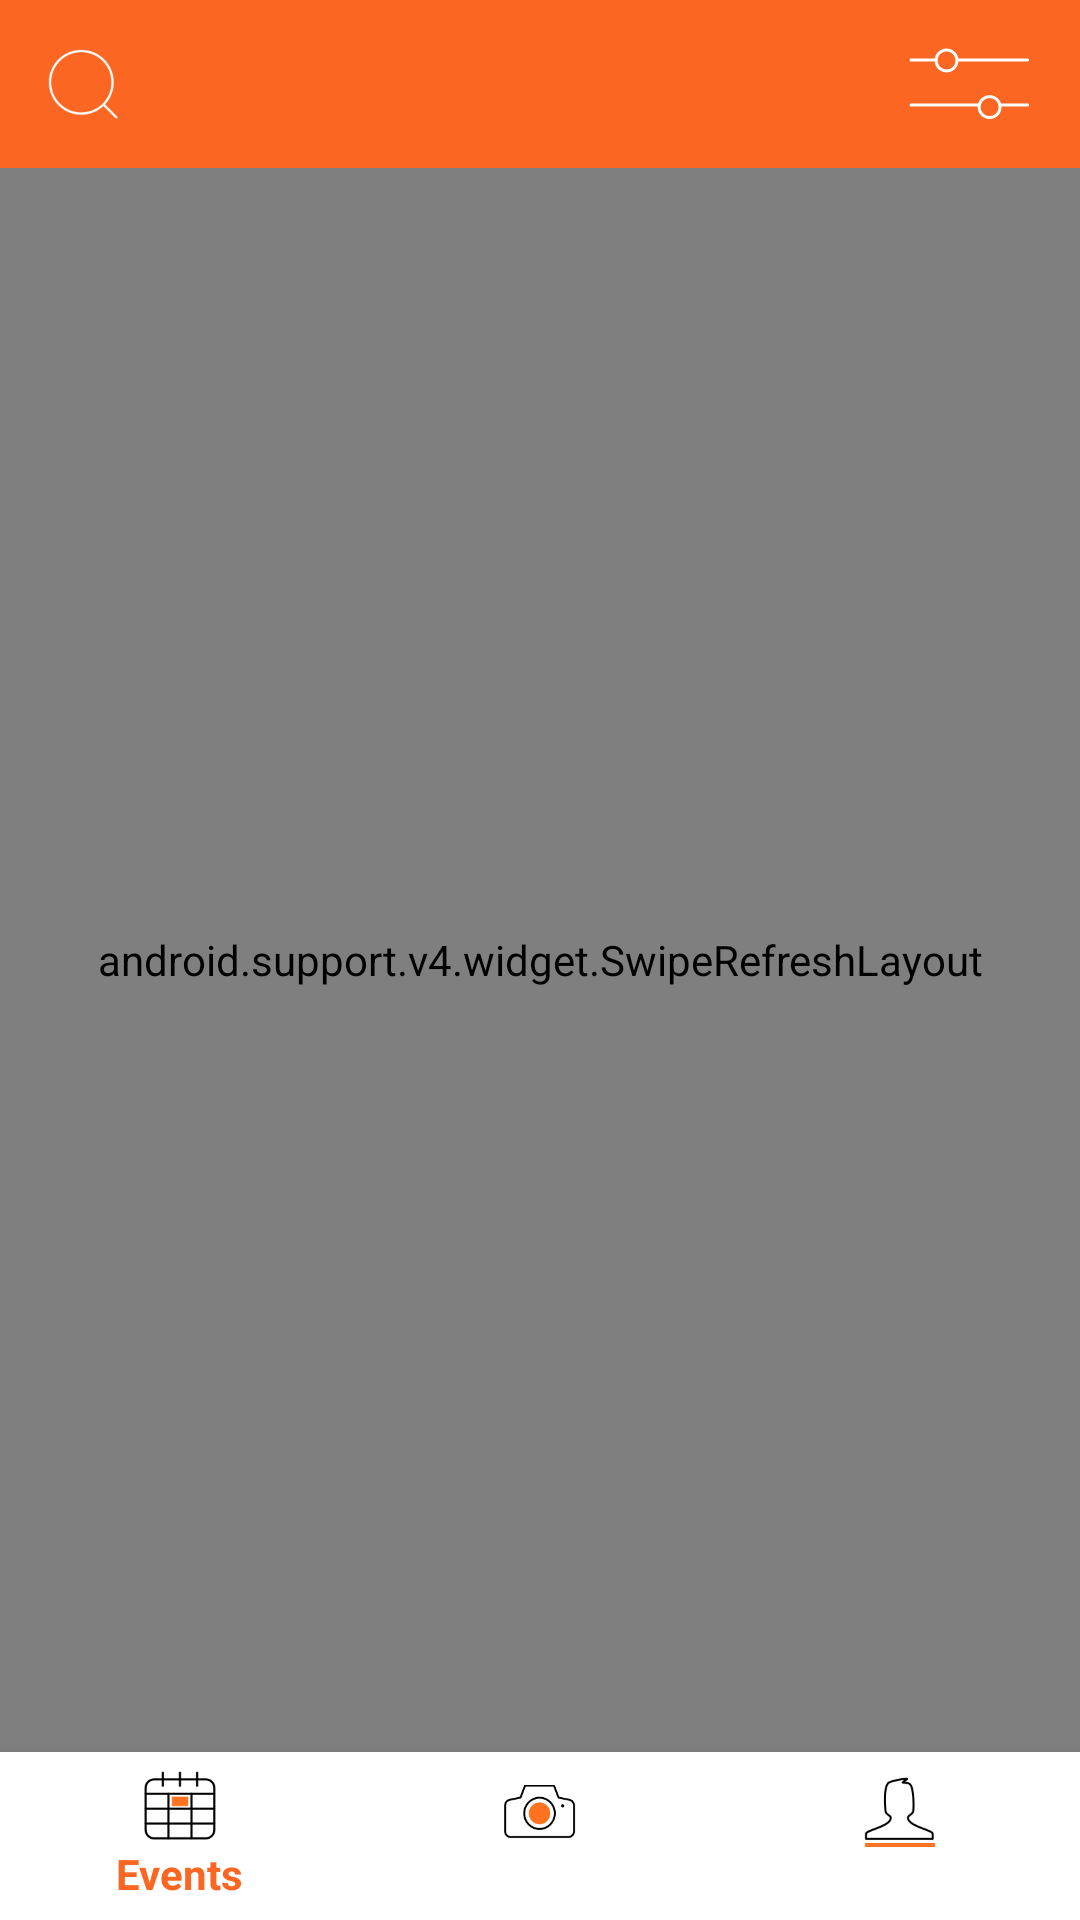

Icon click points for this 1080px×1920px phone screenshot, format (x,y):
filters wh: (969,83)
search wh: (83,84)
